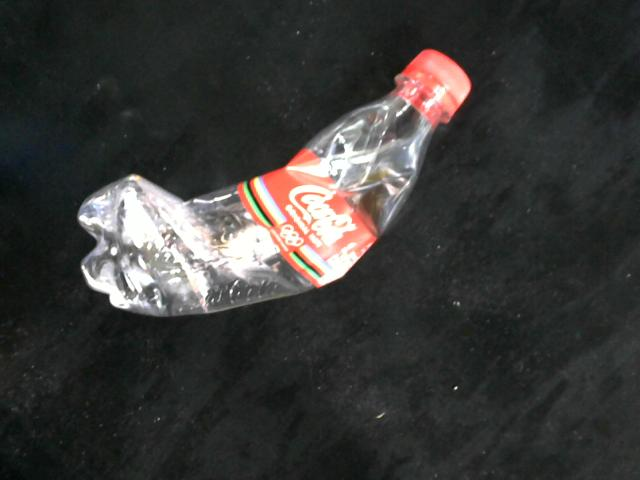bottle: (76, 47, 474, 320)
